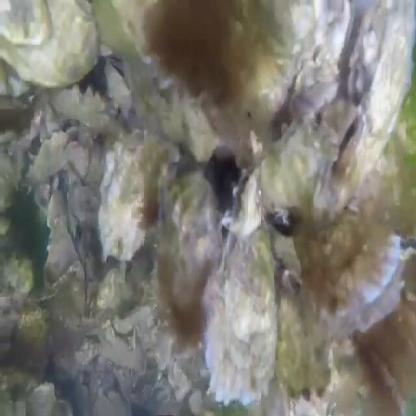Oyster- Indeterminate: (202, 218, 280, 412), (266, 114, 327, 207), (222, 163, 262, 244)
Oyster-Closed: (324, 0, 416, 216), (100, 137, 148, 262), (158, 169, 213, 232)
Oyster-Open: (334, 232, 405, 336), (329, 107, 363, 175)
